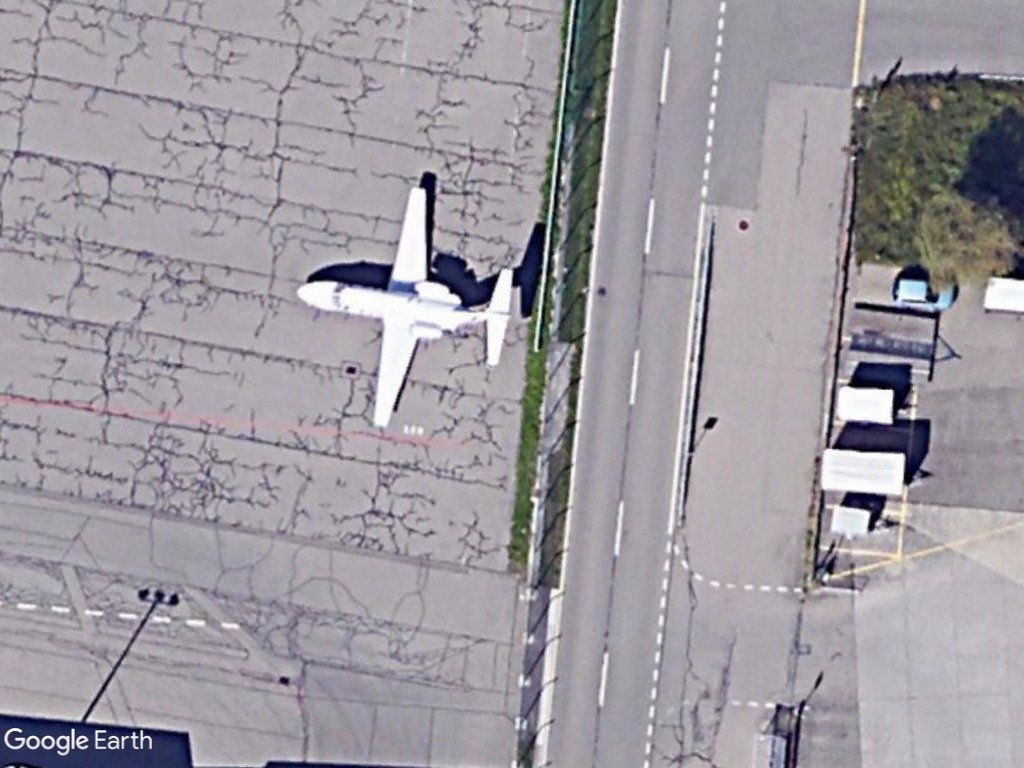chartered: (293, 170, 519, 444)
